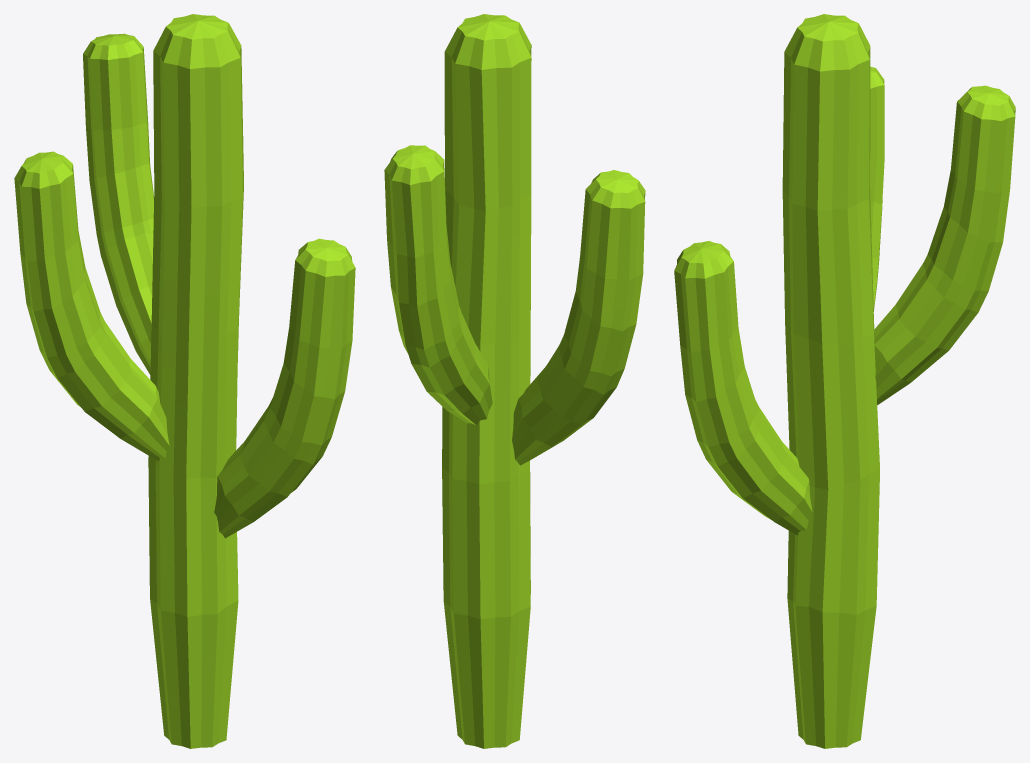
File: cactus-b.glb
The picture shows the model from 3 angles, left to right: view 1: azimuth 30°, elevation 25°; view 2: azimuth 150°, elevation 25°; view 3: azimuth 270°, elevation 25°; orthographic projection.
Visible parts, largest first — view 1: Cactus B; view 2: Cactus B; view 3: Cactus B.
Boxes of the visible parts, x1=… form: Cactus B: x1=14, y1=14, x2=355, y2=748; Cactus B: x1=384, y1=14, x2=645, y2=748; Cactus B: x1=674, y1=14, x2=1015, y2=748.
Bounding box in the file's own units: 0.7718 × 2.04 × 0.8866.
